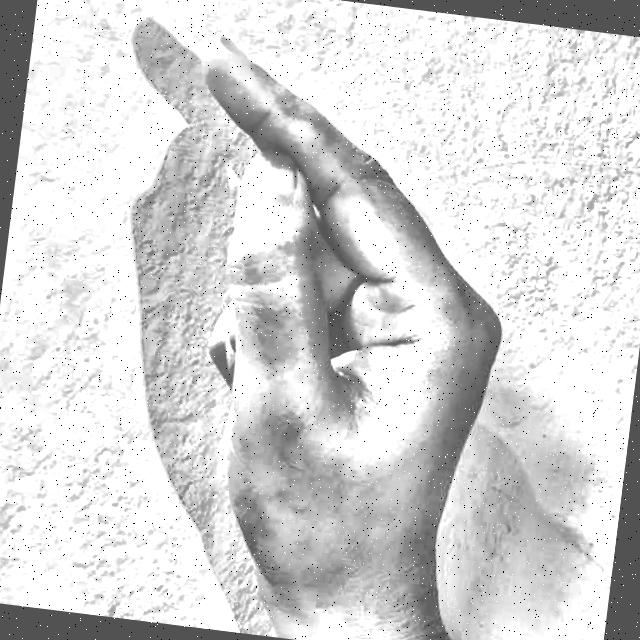Tha: (94, 8, 568, 640)
